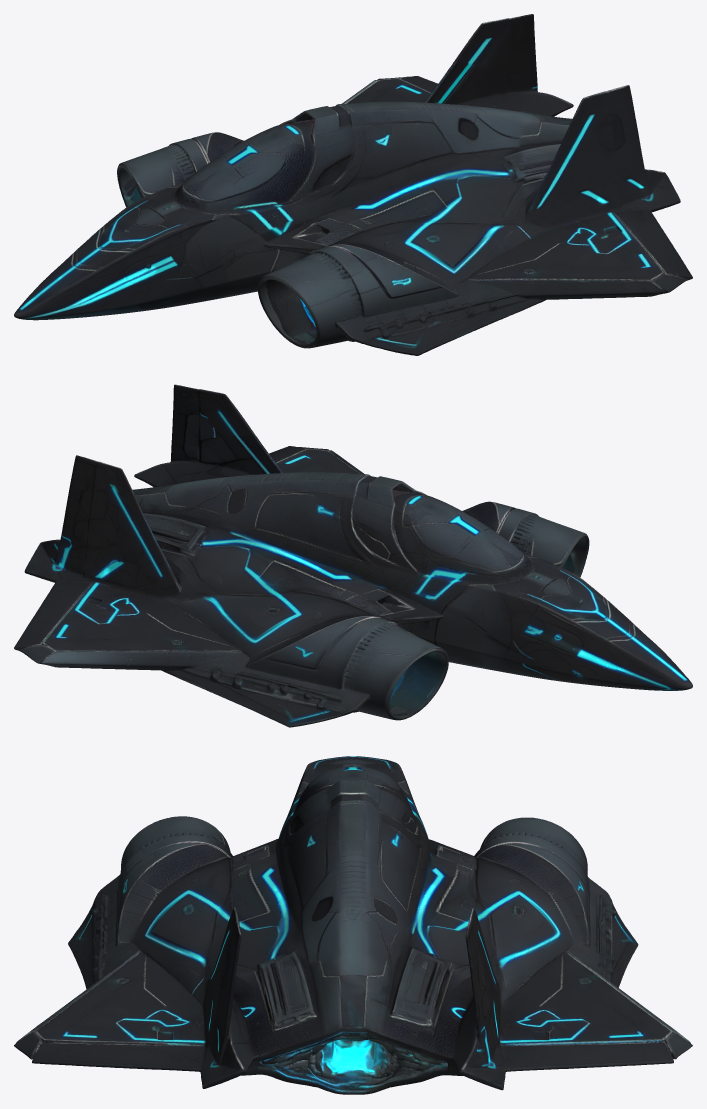
Rendered from ship1.glb.
3 views of the same model, one above another, from view 1: azimuth 30°, elevation 25°; view 2: azimuth 150°, elevation 25°; view 3: azimuth 270°, elevation 25° (orthographic). The views are drawn at different scales.
Size of the model in its own units: 1.9 by 0.4762 by 1.58.
Materials: 1 (1 with a texture image).
